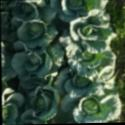cabbage: (71, 73, 89, 89), (22, 50, 40, 66), (81, 99, 96, 116), (80, 23, 94, 41), (26, 21, 44, 35), (33, 94, 47, 110), (21, 1, 34, 18), (69, 0, 85, 7), (2, 106, 10, 117)
